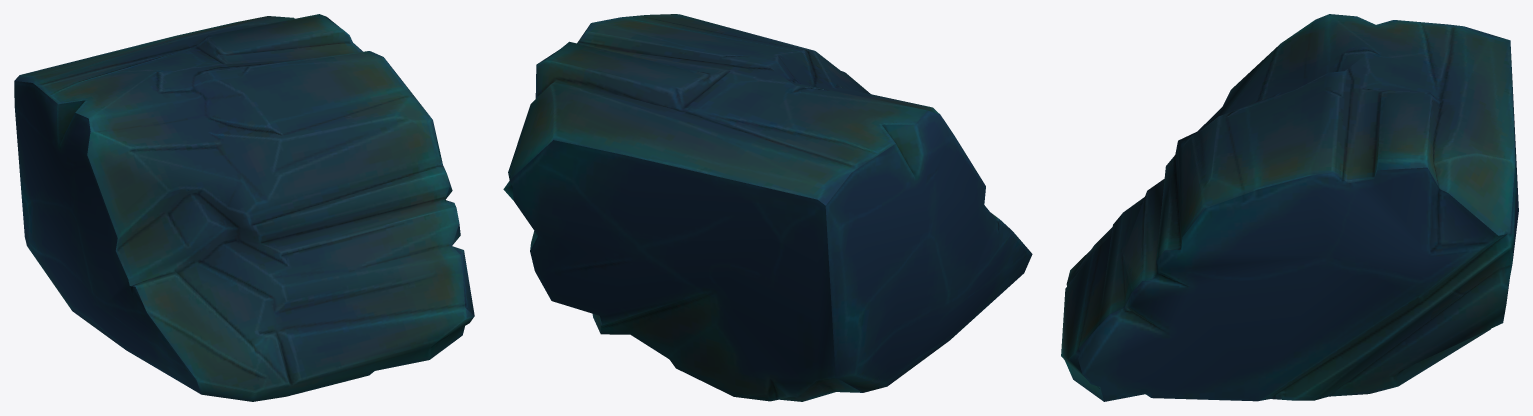
Rendered from small_crystal.fbx.
3 views of the same model, side by side, from view 1: azimuth 30°, elevation 25°; view 2: azimuth 150°, elevation 25°; view 3: azimuth 270°, elevation 25° (orthographic). The views are drawn at different scales.
Parts seen in each view (by area): view 1: node_id30; view 2: node_id30; view 3: node_id30.
Part boxes in pixels (x1,y1,x2,y2): node_id30: [14, 14, 474, 401]; node_id30: [503, 14, 1032, 401]; node_id30: [1061, 14, 1518, 401].
Bounding box in the file's own units: 0.512 × 0.3789 × 0.5985.
Materials: 1 (1 with a texture image).
